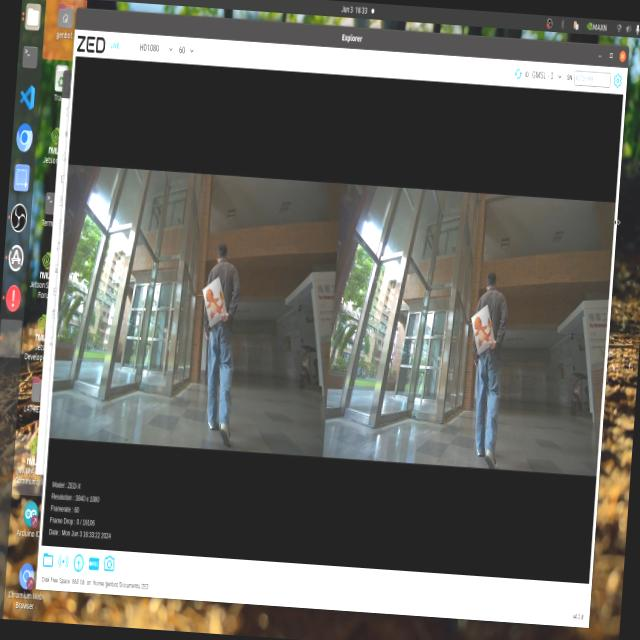red: (468, 302, 494, 352), (200, 283, 230, 323)
